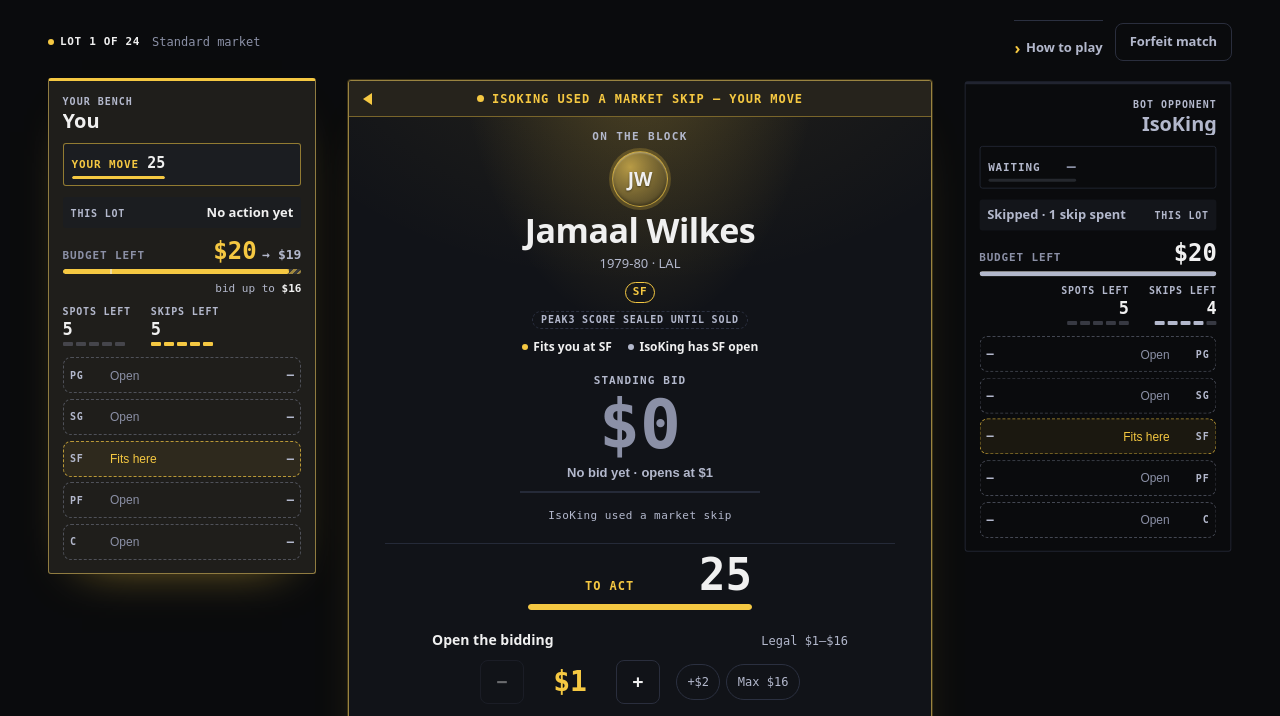
the proposed bid is local and immediate › Max means the legal ceiling, not the whole budget
Click the button with test id "td-bid-max": (763, 682) [726,664,800,700]
(page scrolled)
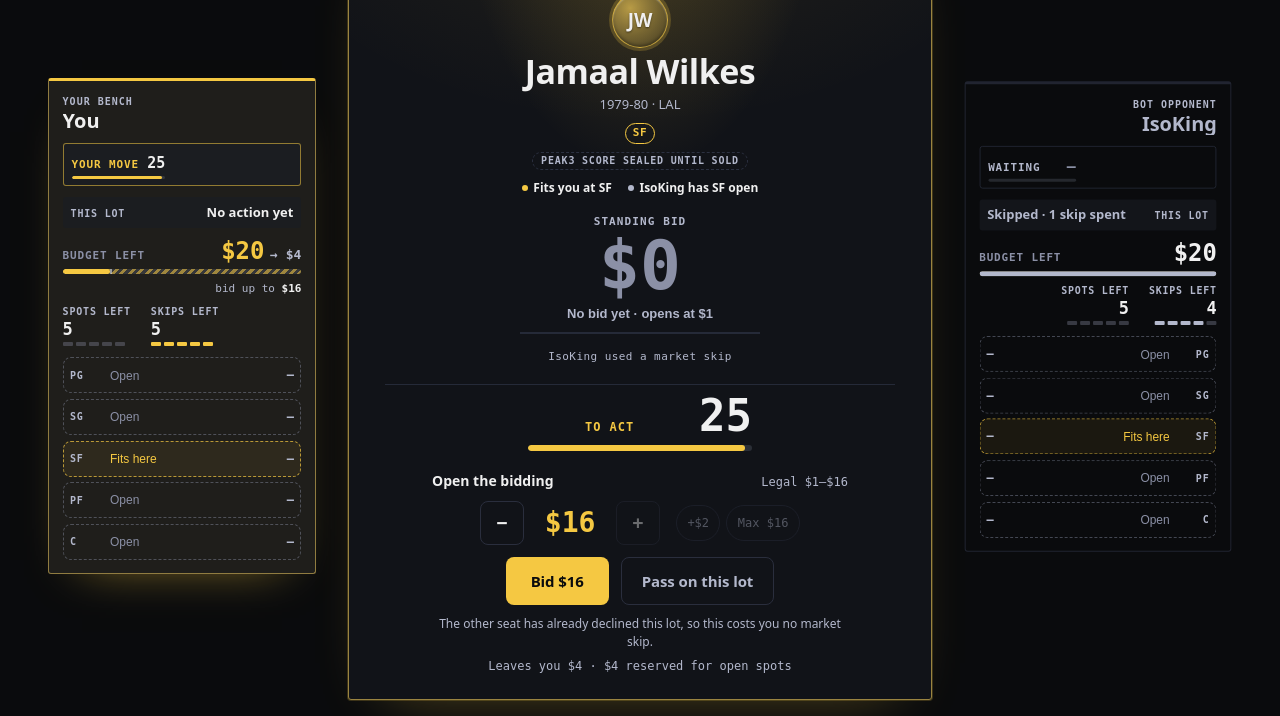
expect the text with test id "td-projection" shows "$4 reserved": met, box [582,658,792,672]
expect the text with test id "td-bid-amount" reads "$16": met, box [545,506,595,539]
